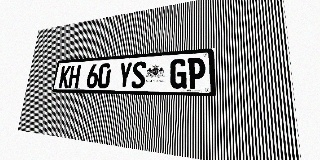0: (97, 63, 111, 88)
6: (86, 64, 100, 88)
G: (170, 58, 187, 89)
H: (68, 65, 81, 88)
K: (59, 65, 71, 88)
P: (187, 57, 205, 89)
S: (131, 61, 147, 89)
Y: (117, 62, 133, 88)
